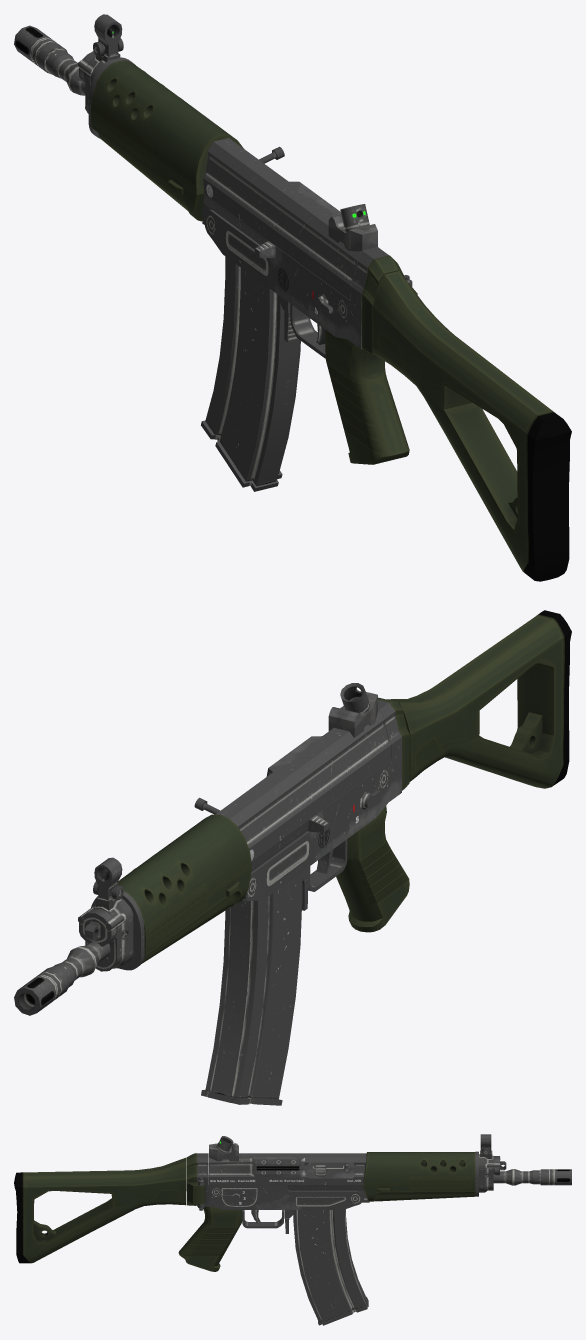
The model's file is rifle.glb.
3 renders of one model, top to bottom at view 1: azimuth 30°, elevation 25°; view 2: azimuth 150°, elevation 25°; view 3: azimuth 270°, elevation 25°, orthographic. The views are drawn at different scales.
Visible parts, largest first — view 1: Object_17; view 2: Object_17; view 3: Object_17.
Boxes of the visible parts, box(x1,y1,x2,y2) form: Object_17: box(14, 14, 571, 581); Object_17: box(14, 610, 571, 1105); Object_17: box(14, 1134, 571, 1325).
Size of the model in its own units: 0.3822 by 1.67 by 4.5.
1 material, 1 textured.
